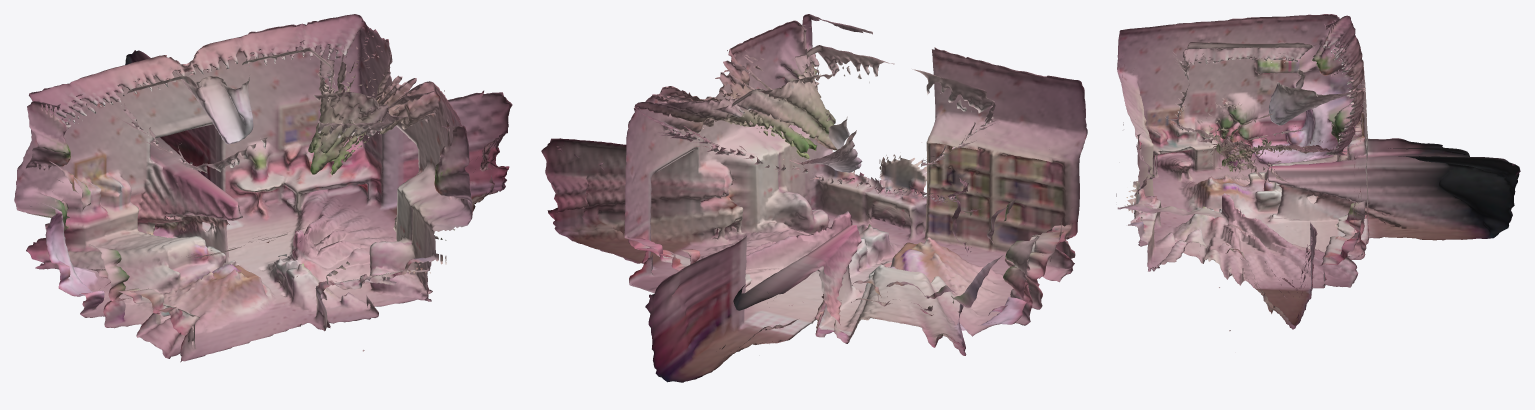
Rendered from lovely-melody-interior_collider.glb.
The picture shows the model from 3 angles, left to right: view 1: azimuth 30°, elevation 25°; view 2: azimuth 150°, elevation 25°; view 3: azimuth 270°, elevation 25°; orthographic projection. The views are drawn at different scales.
Visible parts, largest first — view 1: world; view 2: world; view 3: world.
Part boxes in pixels (x1=…): world: x1=14, y1=14, x2=512, y2=362; world: x1=541, y1=14, x2=1087, y2=382; world: x1=1116, y1=14, x2=1520, y2=331.
Size of the model in its own units: 12.02 by 8.42 by 11.33.
